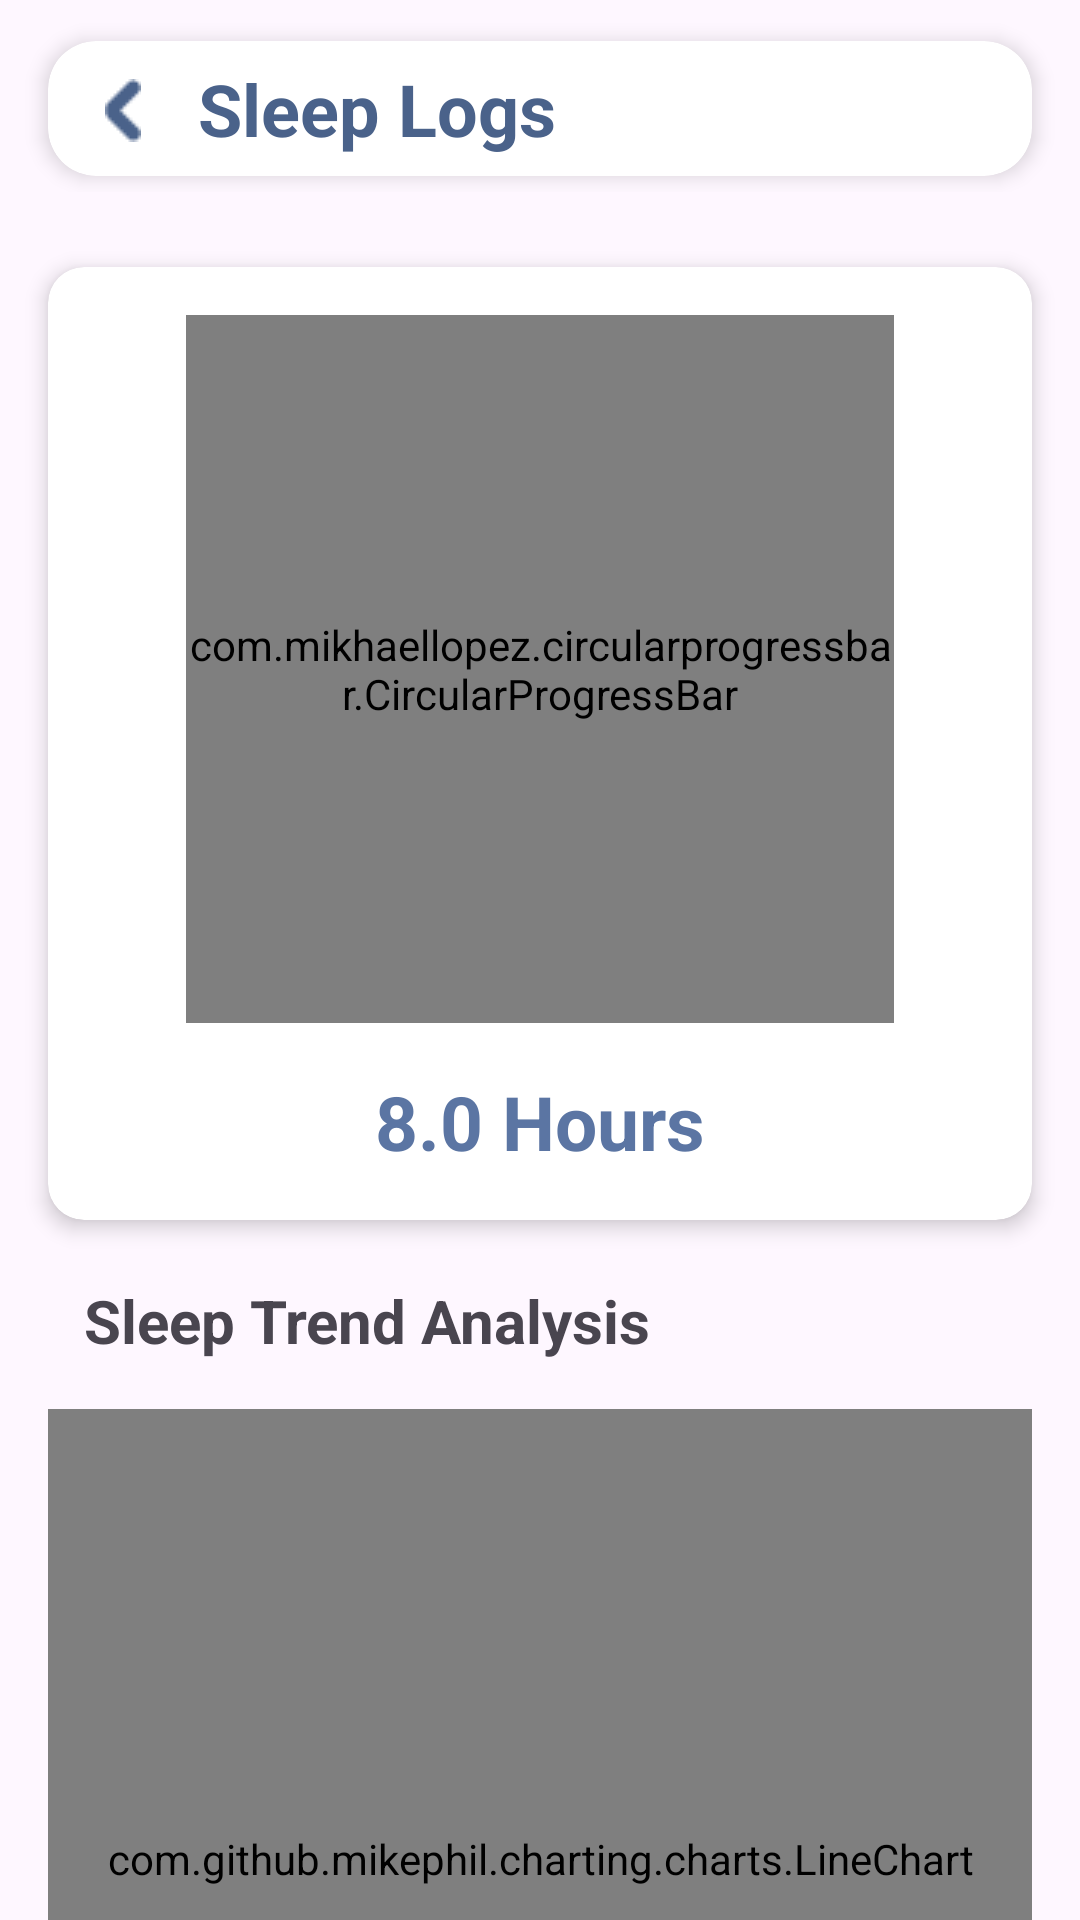

Named icons in this screenshot (1080 x 1920) and their bounding boxes, (x1, y1, x2, y2):
Back: (105, 79, 141, 142)
